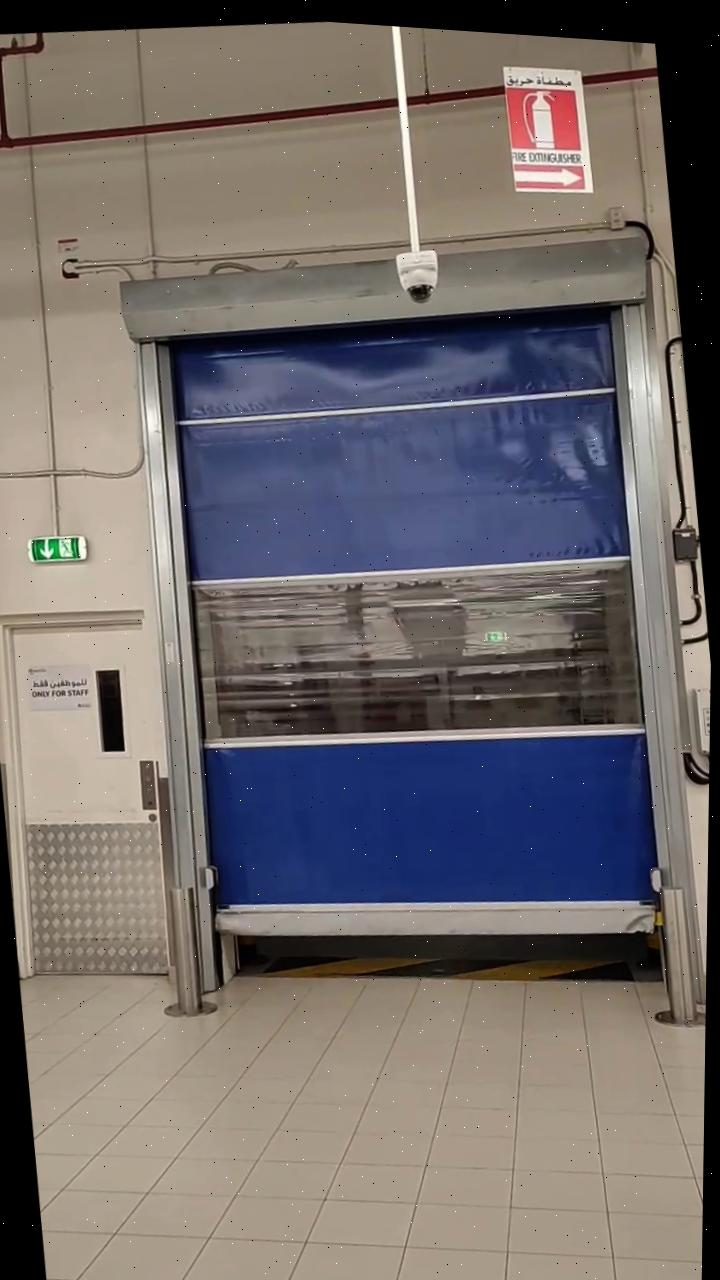Strip: (264, 899, 638, 1013)
